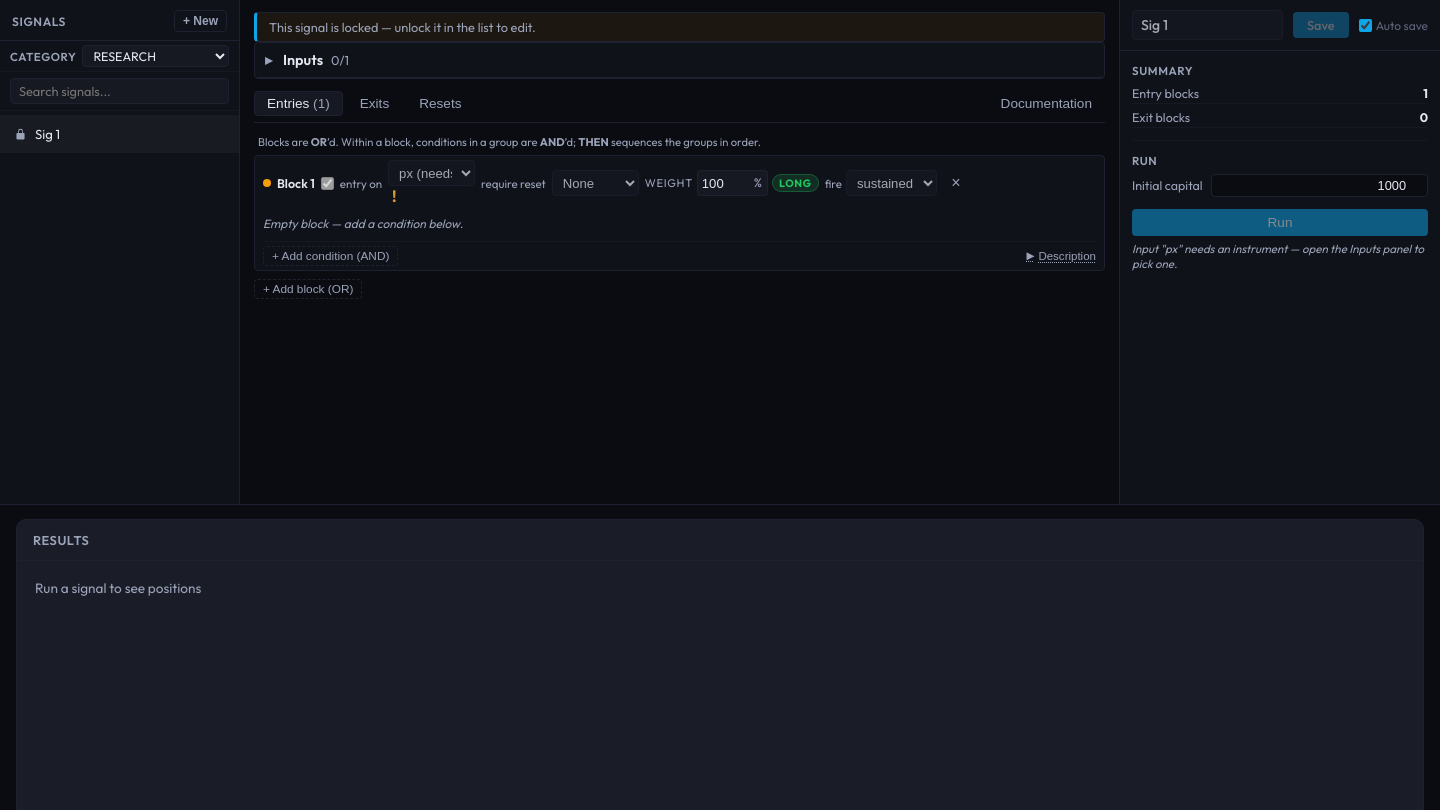
Scenario: SignalsPage — locked signal stays VIEWABLE and NAVIGABLE › keeps the Inputs panel expand/collapse toggle usable (NOT disabled) while locked
expect the message "This signal is locked — unlock it in the list to edit." is shown: met, box [254,12,1105,42]
What coordinates should you click on to do the following:
click the button with test id "inputs-panel-toggle"
I would click on:
 (303, 60)
Its box is [255,43,1104,78].
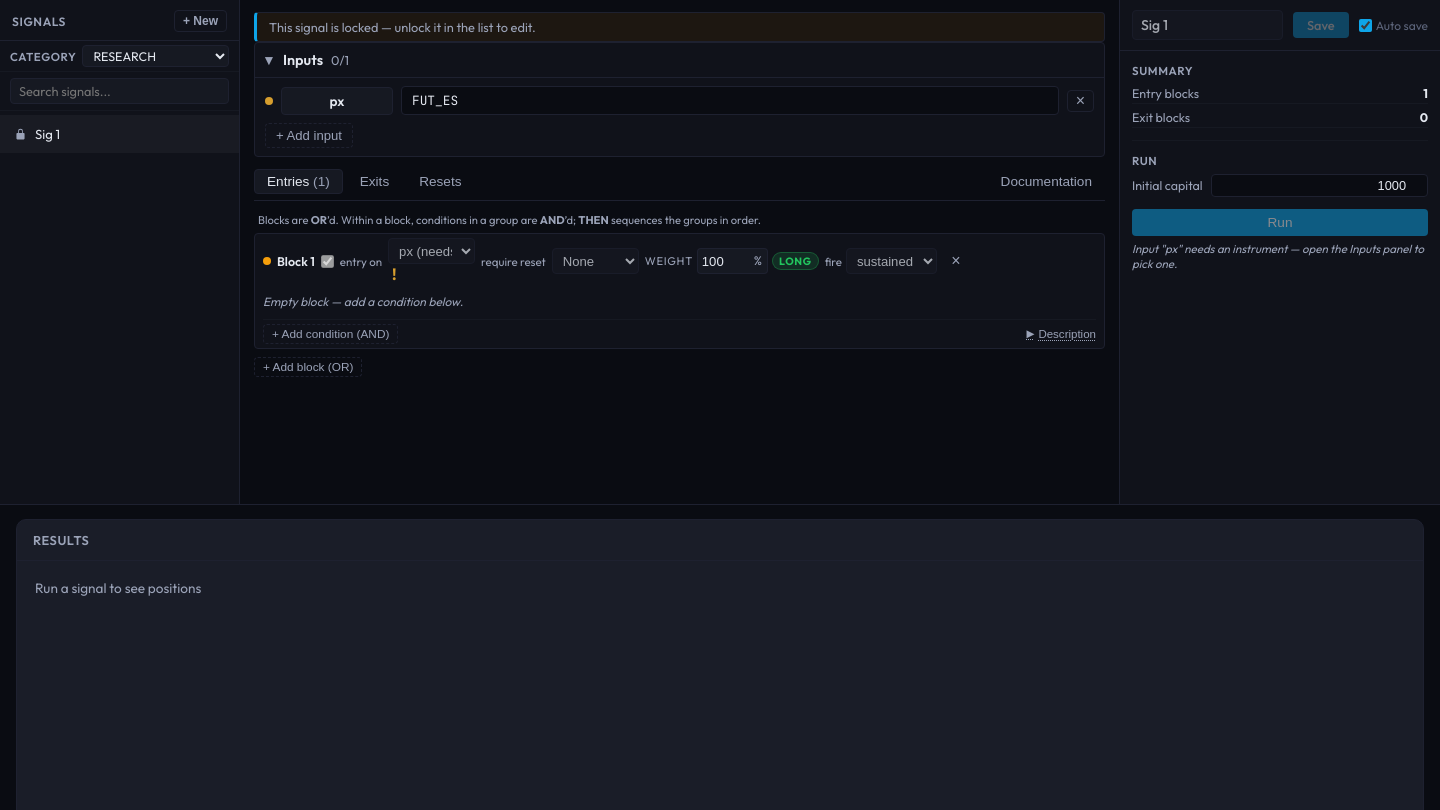
expect the field with test id "input-id-0" holds "px": met, box [281,86,393,114]
